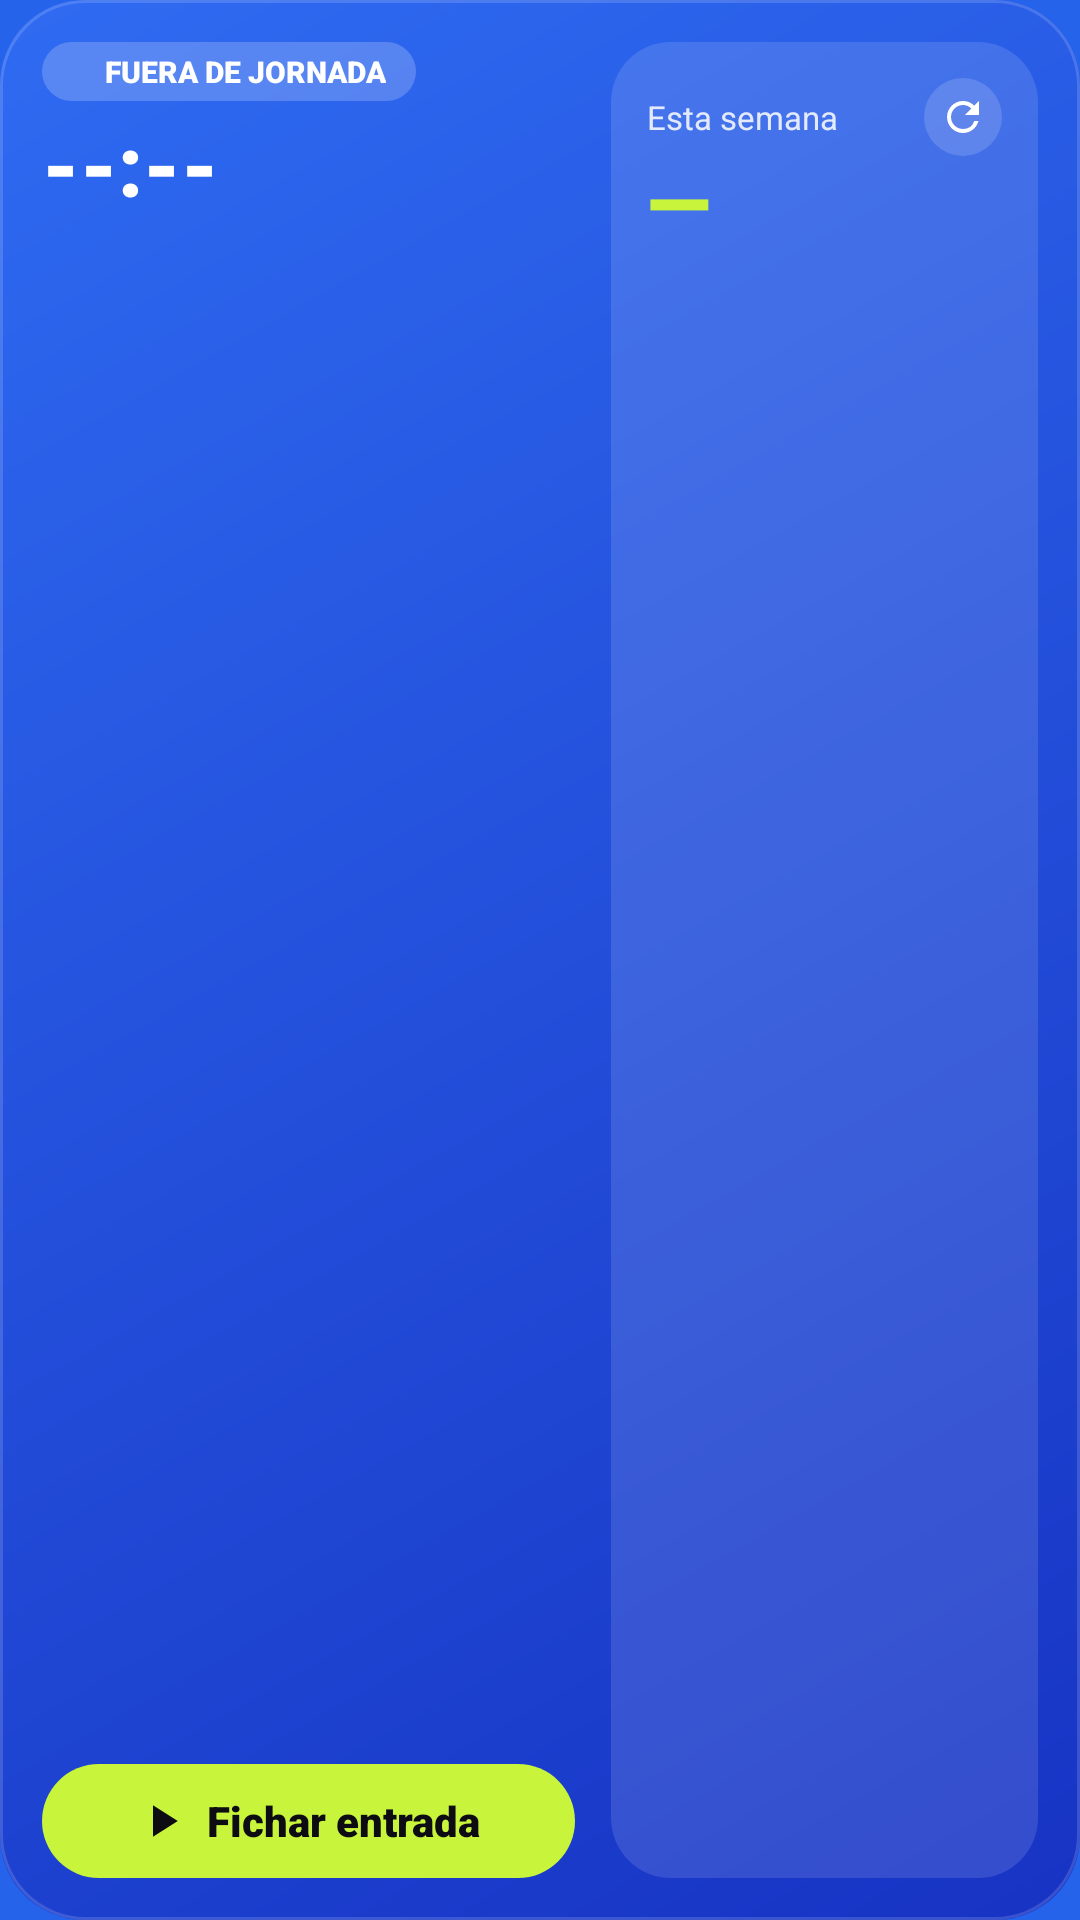

Icon click points for this 1080*1920 phone screenshot, format (x,y):
widget play: (165,1821)
widget refresh: (963,117)
